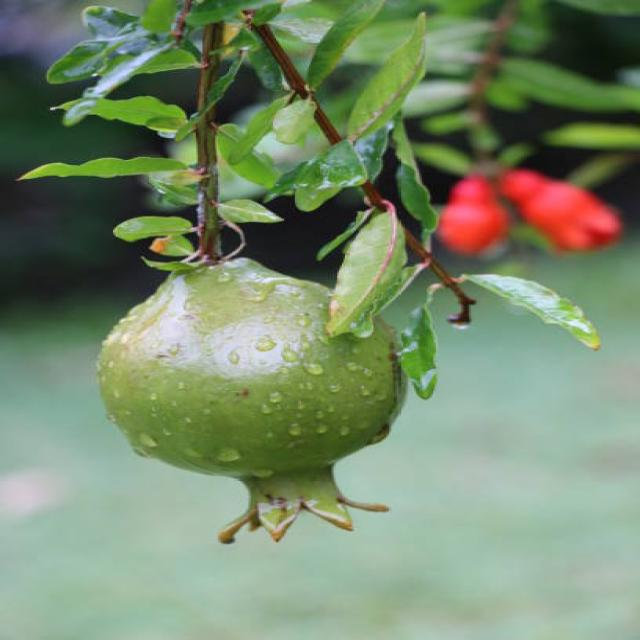Unripe: (100, 253, 412, 544)
